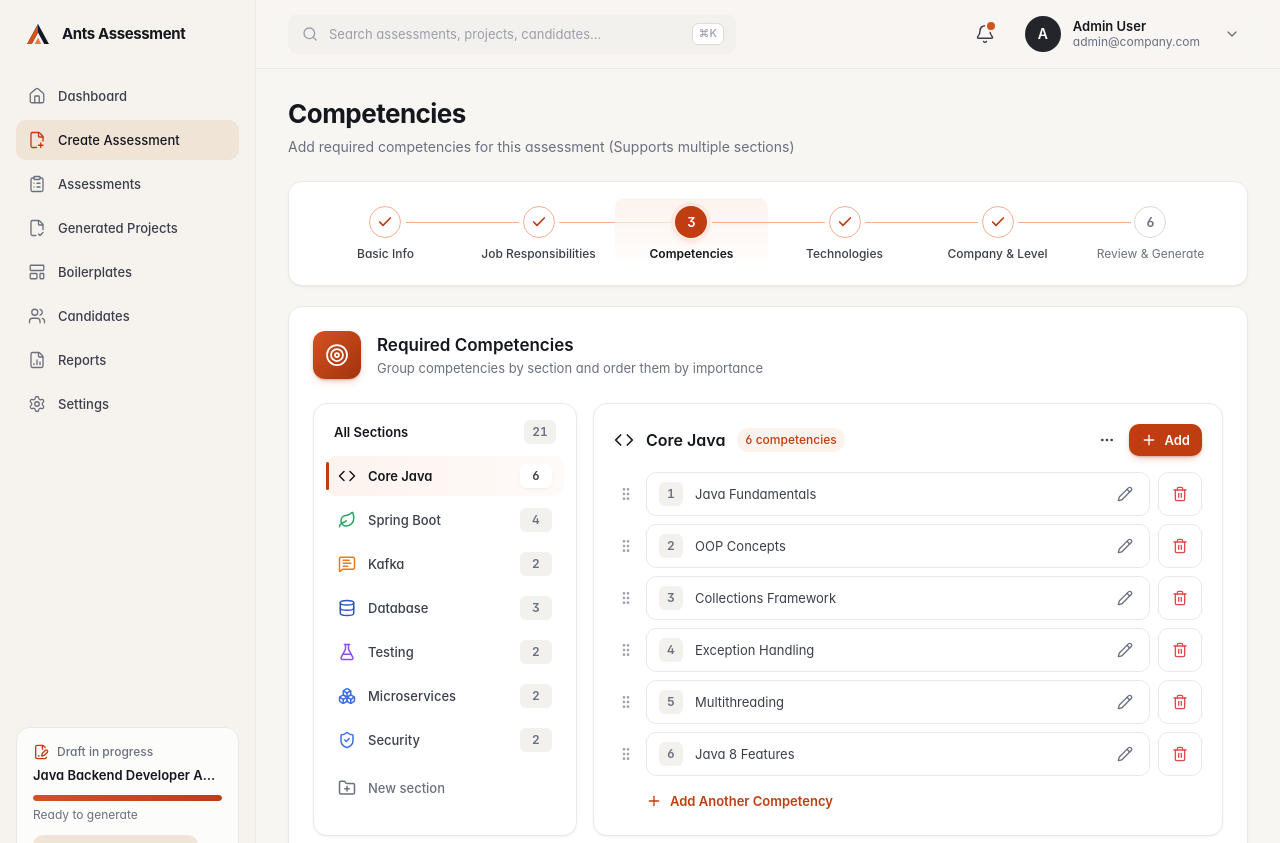
Test case: Competencies step › reuses the editor with numbered rows and its own data
Expected: the list item "1 Java Fundamentals" is shown, [614,472,1202,516]
Expected: the text "6 competencies" is shown, [737,428,845,452]
Step 1. Click the button "Security 2" → click(445, 740), box [326,720,564,760]
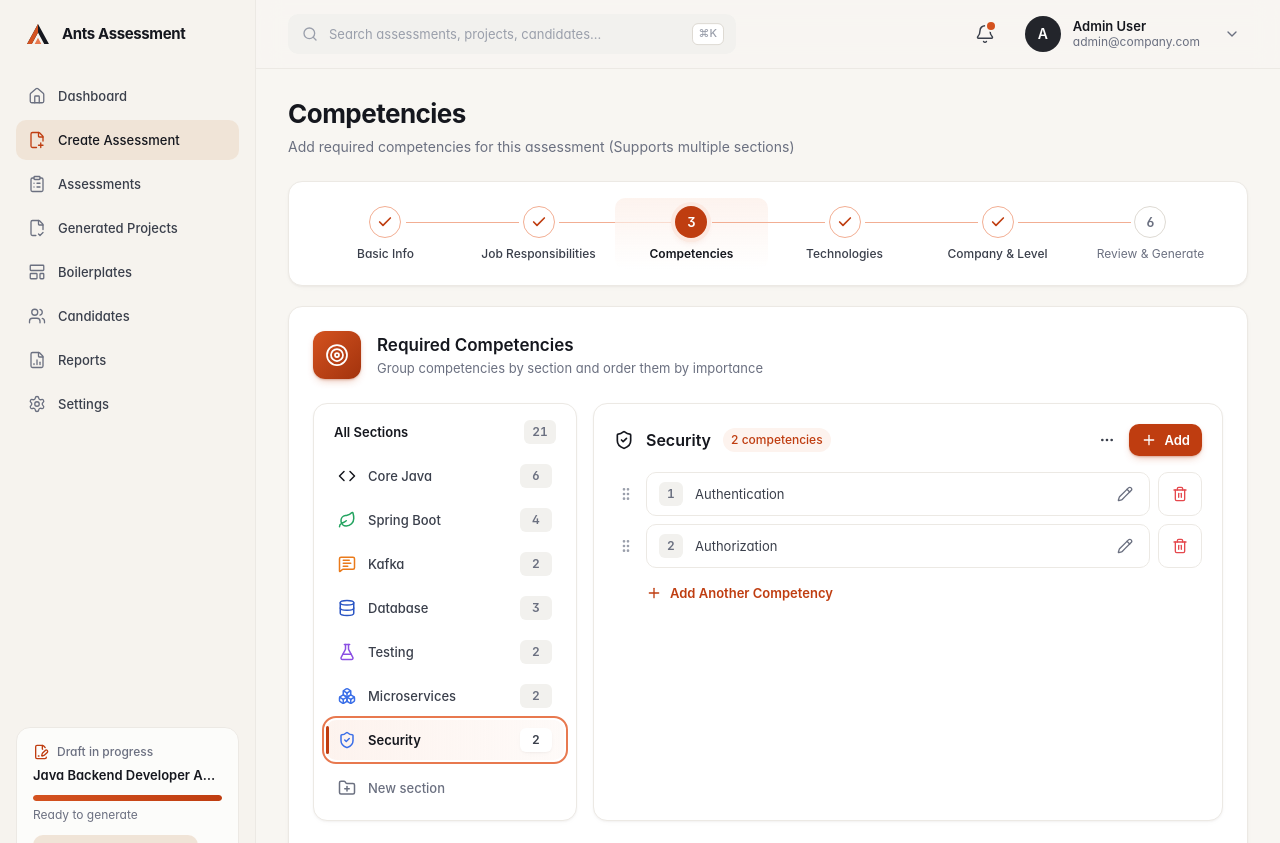
Expected: the list item "2 Authorization" is shown, [614,524,1202,568]
